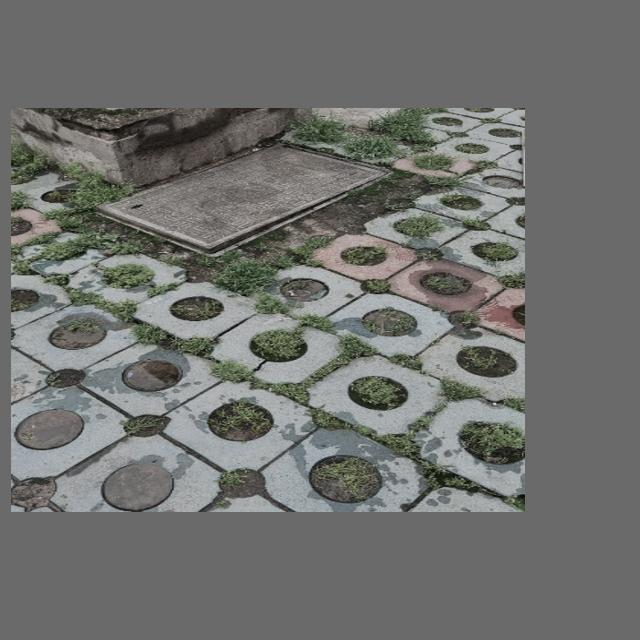uncovered: (87, 142, 392, 255)
